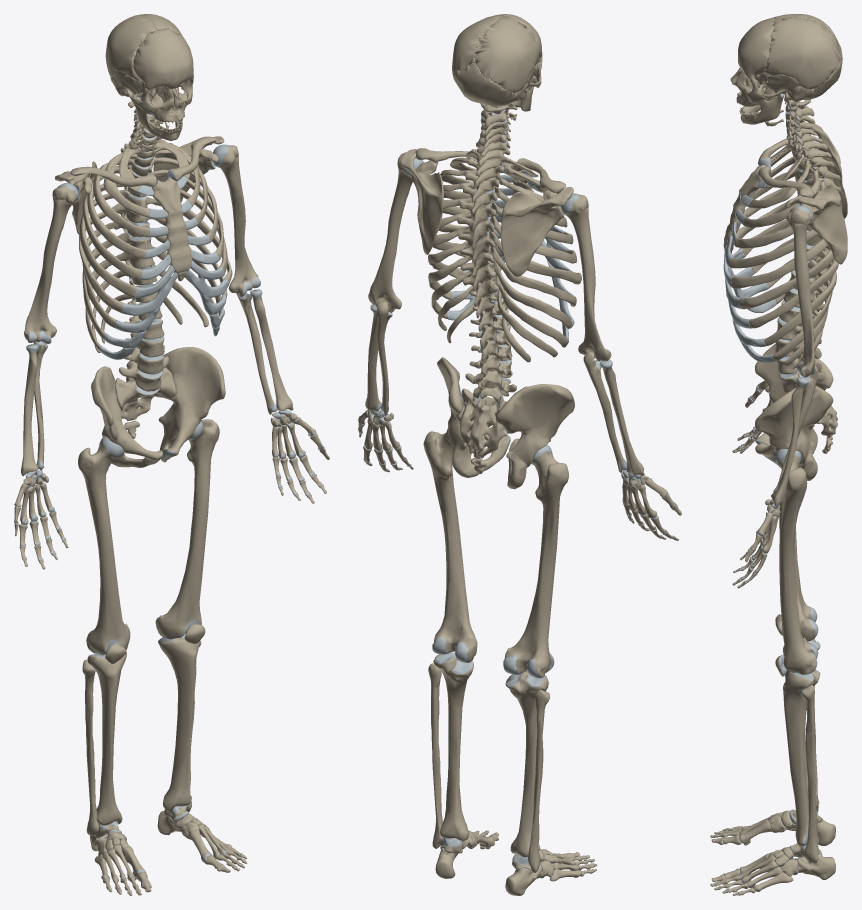
File: adult_male.skeletal.LOD0.glb
The picture shows the model from 3 angles, left to right: view 1: azimuth 30°, elevation 25°; view 2: azimuth 150°, elevation 25°; view 3: azimuth 270°, elevation 25°; orthographic projection. The views are drawn at different scales.
Visible parts, largest first — view 1: ADULT.MALE.SKELETAL.FEMUR.R, ADULT.MALE.SKELETAL.FEMUR.L, ADULT.MALE.SKELETAL.HIP_BONE.L, ADULT.MALE.SKELETAL.TIBIA.L, ADULT.MALE.SKELETAL.FRONTAL_BONE, ADULT.MALE.SKELETAL.TIBIA.R, ADULT.MALE.SKELETAL.HUMERUS.R, ADULT.MALE.SKELETAL.HUMERUS.L, ADULT.MALE.SKELETAL.HIP_BONE.R, ADULT.MALE.SKELETAL.PARIETAL_BONE.R, ADULT.MALE.SKELETAL.SACRUM, ADULT.MALE.SKELETAL.FIBULA.R (+19 smaller); view 2: ADULT.MALE.SKELETAL.FEMUR.R, ADULT.MALE.SKELETAL.FEMUR.L, ADULT.MALE.SKELETAL.HIP_BONE.R, ADULT.MALE.SKELETAL.SCAPULA.R, ADULT.MALE.SKELETAL.PARIETAL_BONE.R, ADULT.MALE.SKELETAL.TIBIA.L, ADULT.MALE.SKELETAL.TIBIA.R, ADULT.MALE.SKELETAL.HUMERUS.R, ADULT.MALE.SKELETAL.HUMERUS.L, ADULT.MALE.SKELETAL.HIP_BONE.L, ADULT.MALE.SKELETAL.SCAPULA.L, ADULT.MALE.SKELETAL.SACRUM (+15 smaller); view 3: ADULT.MALE.SKELETAL.FEMUR.L, ADULT.MALE.SKELETAL.PARIETAL_BONE.L, ADULT.MALE.SKELETAL.TIBIA.L, ADULT.MALE.SKELETAL.HIP_BONE.L, ADULT.MALE.SKELETAL.HUMERUS.L, ADULT.MALE.SKELETAL.SCAPULA.L, ADULT.MALE.SKELETAL.FIBULA.L, ADULT.MALE.SKELETAL.FRONTAL_BONE, ADULT.MALE.SKELETAL.HIP_BONE.R, ADULT.MALE.SKELETAL.RADIUS.L, ADULT.MALE.SKELETAL.FEMUR.R, ADULT.MALE.SKELETAL.SEVENTH_RIB.L (+28 smaller).
Boxes of the visible parts, x1,y1,x2,y2 form: ADULT.MALE.SKELETAL.FEMUR.R: [78, 436, 130, 655]; ADULT.MALE.SKELETAL.FEMUR.L: [155, 419, 219, 639]; ADULT.MALE.SKELETAL.HIP_BONE.L: [158, 347, 225, 462]; ADULT.MALE.SKELETAL.TIBIA.L: [158, 633, 200, 811]; ADULT.MALE.SKELETAL.FRONTAL_BONE: [133, 28, 193, 91]; ADULT.MALE.SKELETAL.TIBIA.R: [87, 652, 126, 825]; ADULT.MALE.SKELETAL.HUMERUS.R: [24, 183, 78, 344]; ADULT.MALE.SKELETAL.HUMERUS.L: [212, 144, 260, 296]; ADULT.MALE.SKELETAL.HIP_BONE.R: [91, 366, 162, 467]; ADULT.MALE.SKELETAL.PARIETAL_BONE.R: [105, 15, 157, 79]; ADULT.MALE.SKELETAL.SACRUM: [115, 367, 175, 420]; ADULT.MALE.SKELETAL.FIBULA.R: [82, 659, 99, 835]; ADULT.MALE.SKELETAL.FEMUR.R: [503, 444, 568, 678]; ADULT.MALE.SKELETAL.FEMUR.L: [423, 428, 477, 662]; ADULT.MALE.SKELETAL.HIP_BONE.R: [495, 384, 574, 489]; ADULT.MALE.SKELETAL.SCAPULA.R: [500, 187, 573, 276]; ADULT.MALE.SKELETAL.PARIETAL_BONE.R: [474, 16, 539, 93]; ADULT.MALE.SKELETAL.TIBIA.L: [433, 652, 473, 840]; ADULT.MALE.SKELETAL.TIBIA.R: [505, 671, 548, 857]; ADULT.MALE.SKELETAL.HUMERUS.R: [561, 193, 611, 361]; ADULT.MALE.SKELETAL.HUMERUS.L: [368, 152, 423, 312]; ADULT.MALE.SKELETAL.HIP_BONE.L: [437, 357, 510, 477]; ADULT.MALE.SKELETAL.SCAPULA.L: [400, 149, 443, 254]; ADULT.MALE.SKELETAL.SACRUM: [459, 388, 507, 458]; ADULT.MALE.SKELETAL.FEMUR.L: [775, 448, 818, 674]; ADULT.MALE.SKELETAL.PARIETAL_BONE.L: [763, 17, 840, 89]; ADULT.MALE.SKELETAL.TIBIA.L: [783, 669, 820, 846]; ADULT.MALE.SKELETAL.HIP_BONE.L: [755, 386, 833, 480]; ADULT.MALE.SKELETAL.HUMERUS.L: [786, 205, 815, 377]; ADULT.MALE.SKELETAL.SCAPULA.L: [785, 183, 847, 264]; ADULT.MALE.SKELETAL.FIBULA.L: [800, 684, 818, 863]; ADULT.MALE.SKELETAL.FRONTAL_BONE: [738, 17, 774, 78]; ADULT.MALE.SKELETAL.HIP_BONE.R: [755, 343, 833, 453]; ADULT.MALE.SKELETAL.RADIUS.L: [771, 377, 808, 506]; ADULT.MALE.SKELETAL.FEMUR.R: [779, 470, 818, 641]; ADULT.MALE.SKELETAL.SEVENTH_RIB.L: [739, 249, 834, 309].
Size of the model in its own units: 0.6692 by 1.7 by 0.2501.
